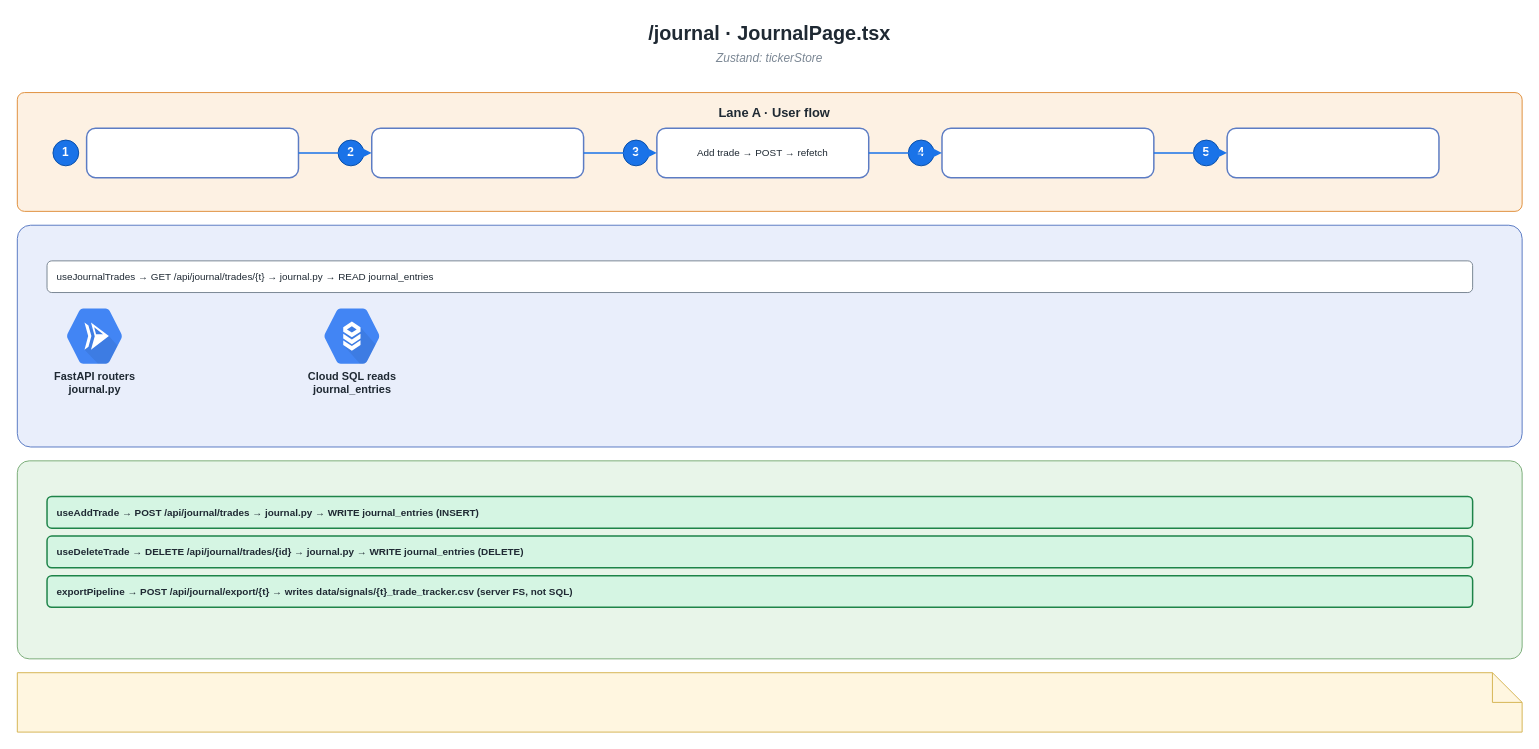
The diagram is 1539 pixels wide and 749 high, and some of its shapes have lost their labels. Here are the shapes that lost their labels. From the top down, the box of each, then its label:
(85, 127, 299, 178): User lands on /journal
(371, 127, 584, 178): Trades list loads
(941, 127, 1154, 178): Delete trade → DELETE → refetch
(1226, 127, 1439, 178): Export → server writes CSV
(16, 224, 1522, 447): Lane B · Data in — reads
(16, 460, 1522, 659): Lane C · Data out — writes
(16, 672, 1522, 732): One of only four frontend write paths.
